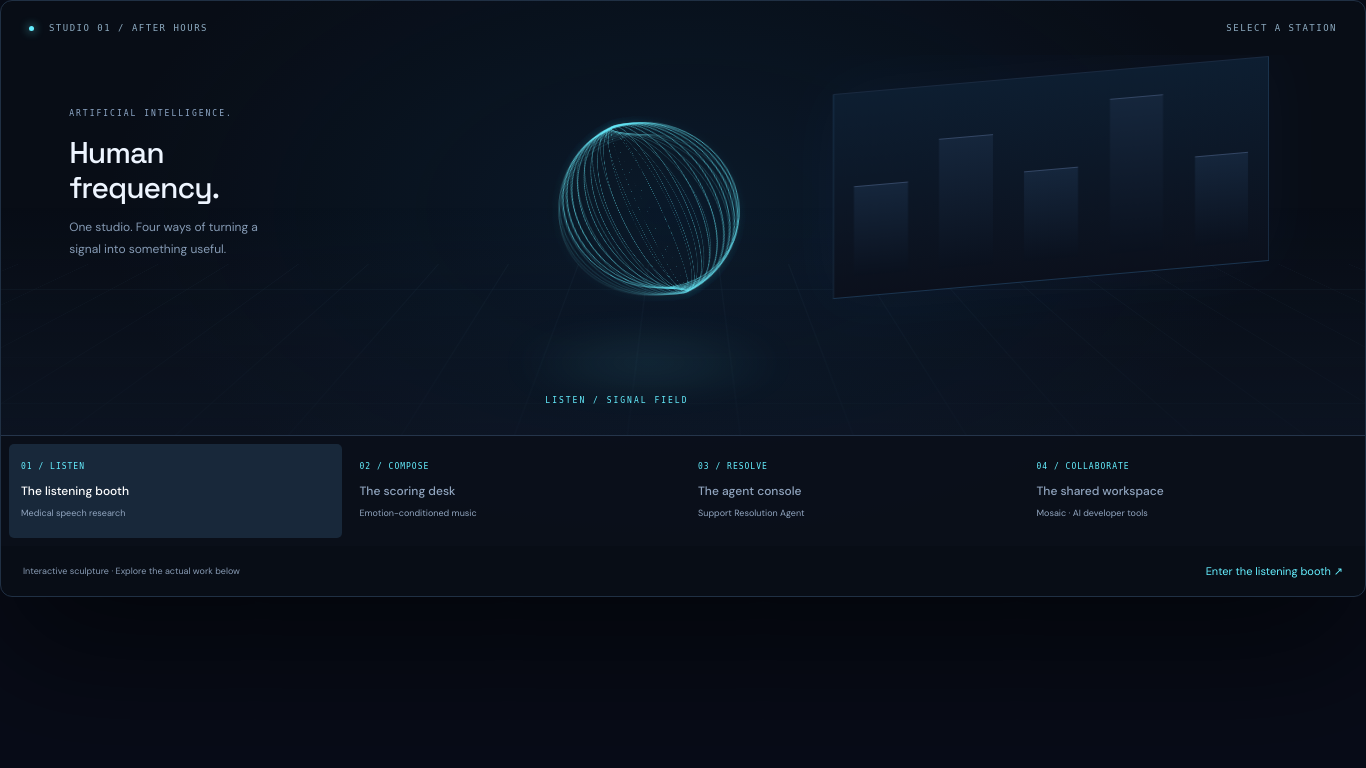
Scenario: studio station changes the project entrance
Click the button "03 / RESOLVE The agent console Support Resolution Agent" at {"x": 747, "y": 466}, box [686,444,1018,538]
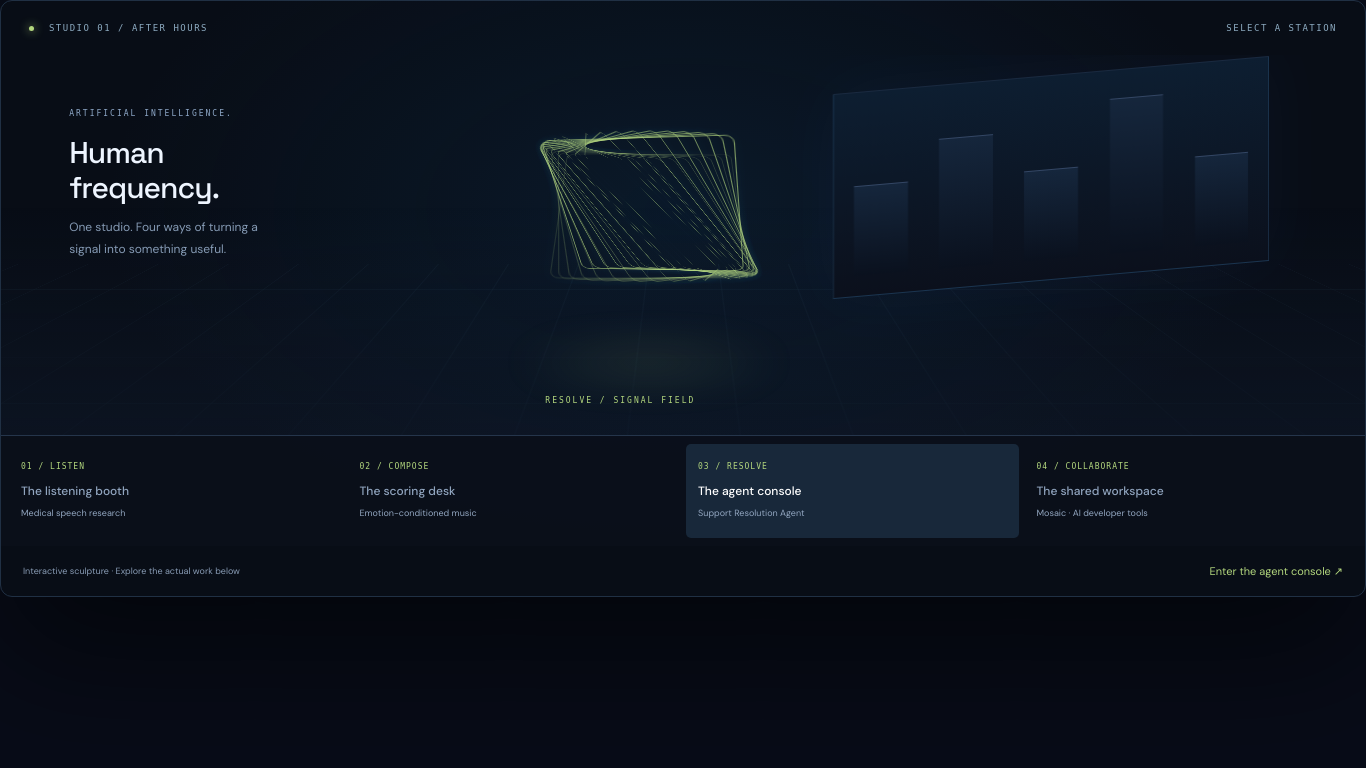
expect the link "Enter the agent console ↗" has attribute href="#support": met, box [1210,564,1343,578]
